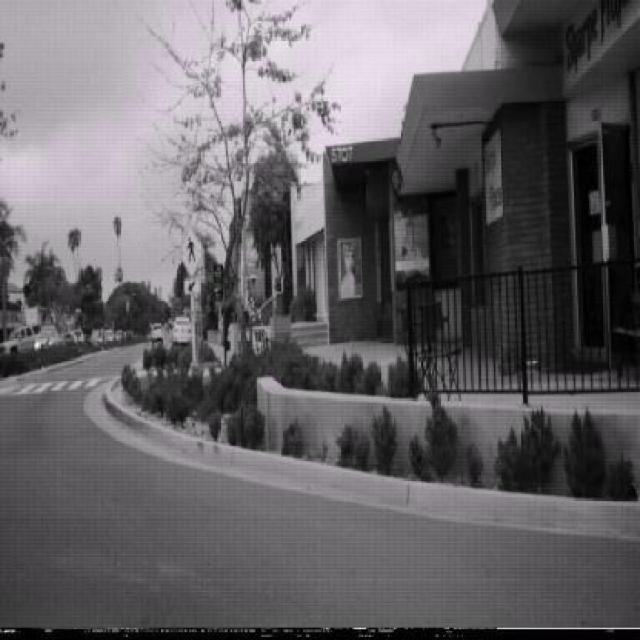pedestrianCrossing: (178, 225, 204, 277)
